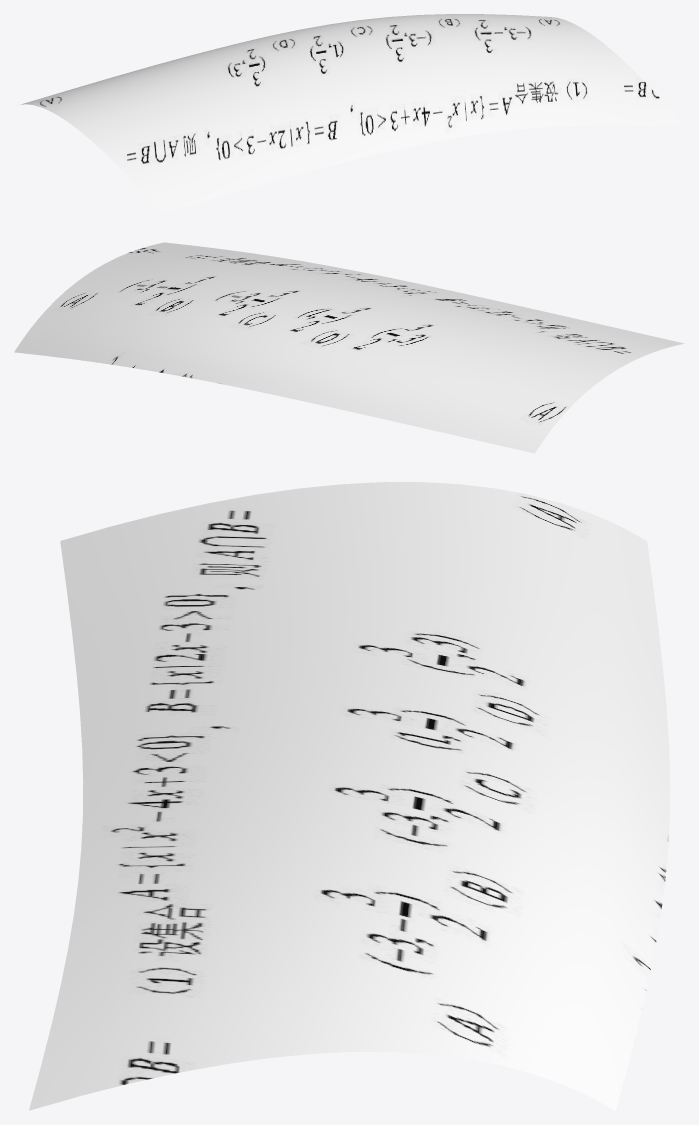
Rendered from math1.fbx.
3 views of the same model, one above another, from view 1: azimuth 30°, elevation 25°; view 2: azimuth 150°, elevation 25°; view 3: azimuth 270°, elevation 25° (orthographic). The views are drawn at different scales.
Visible parts, largest first — view 1: 曲面片; view 2: 曲面片; view 3: 曲面片.
Part boxes in pixels (x1,y1,x2,y2): 曲面片: (21,14,684,213); 曲面片: (14,242,684,453); 曲面片: (29,482,669,1110).
Size of the model in its own units: 418 by 50.32 by 223.
1 material, 1 textured.
